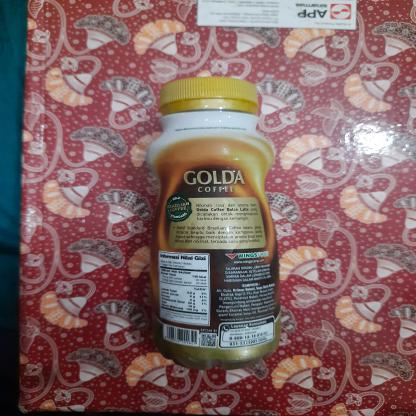plastic: (142, 72, 286, 373)
